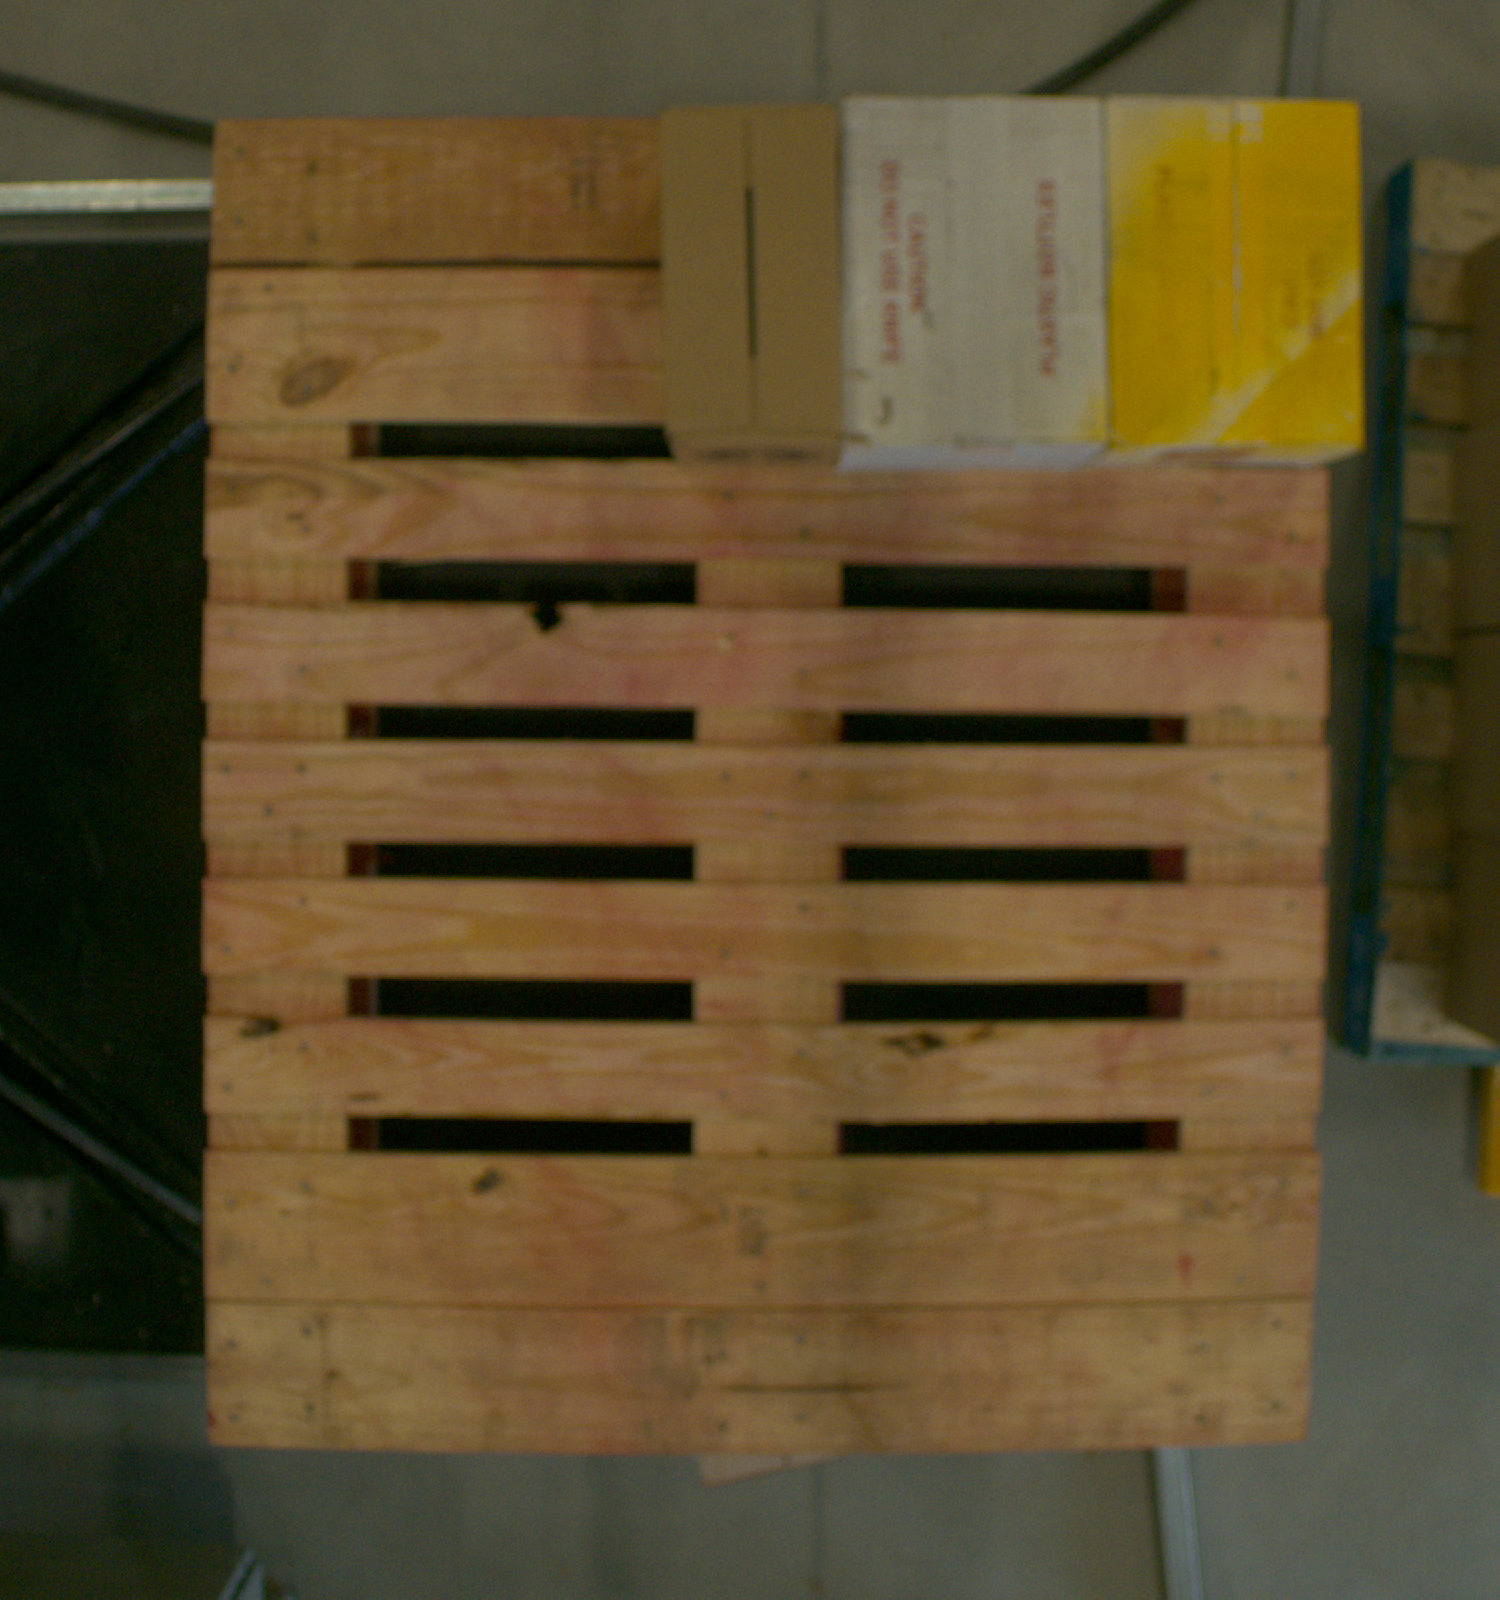box top: (1108, 99, 1367, 450), (849, 100, 1107, 450), (664, 104, 840, 448)
